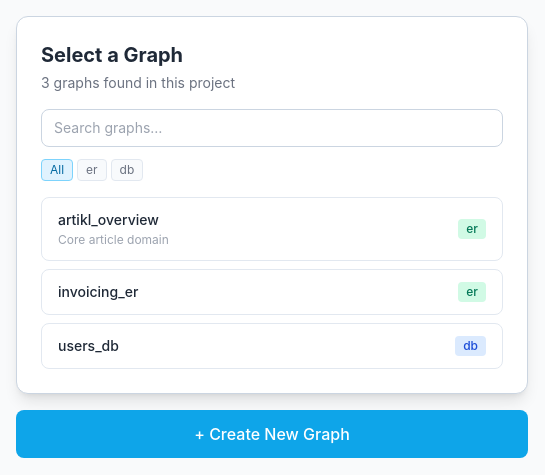
it: <GraphPicker /> › filters by search text
In the field with placeholder "Search graphs…": (272, 128) [41,109,503,147], type "artikl"
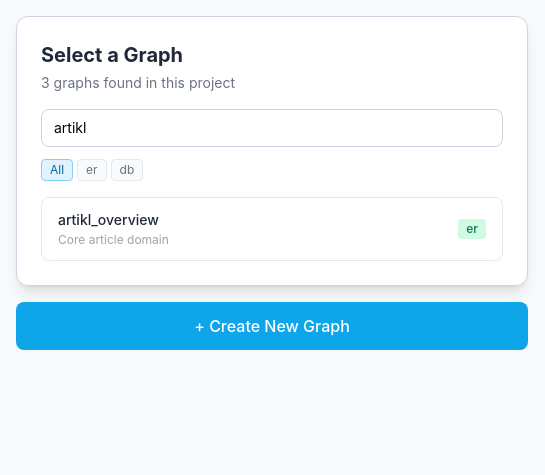
Check: the text "artikl_overview" is shown, box [58,210,169,230]
Check: the button "invoicing_er" is gone
Check: the button "users_db" is gone
